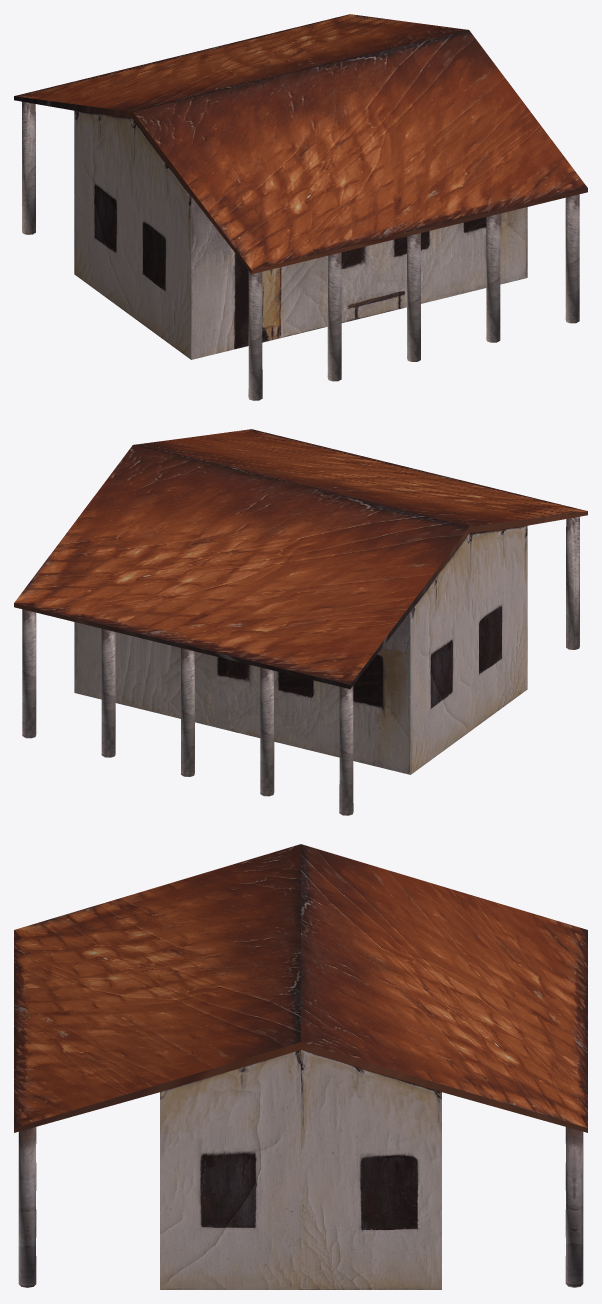
Rendered from casa-fazenda.glb.
3 renders of one model, top to bottom at view 1: azimuth 30°, elevation 25°; view 2: azimuth 150°, elevation 25°; view 3: azimuth 270°, elevation 25°, orthographic. The views are drawn at different scales.
Visible parts, largest first — view 1: PREDIO, PILARES; view 2: PREDIO, PILARES; view 3: PREDIO, PILARES.
Boxes of the visible parts, x1=… form: PREDIO: x1=14, y1=14, x2=587, y2=359; PILARES: x1=22, y1=101, x2=579, y2=400; PREDIO: x1=14, y1=429, x2=587, y2=774; PILARES: x1=22, y1=516, x2=579, y2=815; PREDIO: x1=14, y1=844, x2=587, y2=1289; PILARES: x1=18, y1=1127, x2=583, y2=1287.
Size of the model in its own units: 9.6 by 5.6 by 11.76.
Materials: 1 (1 with a texture image).
